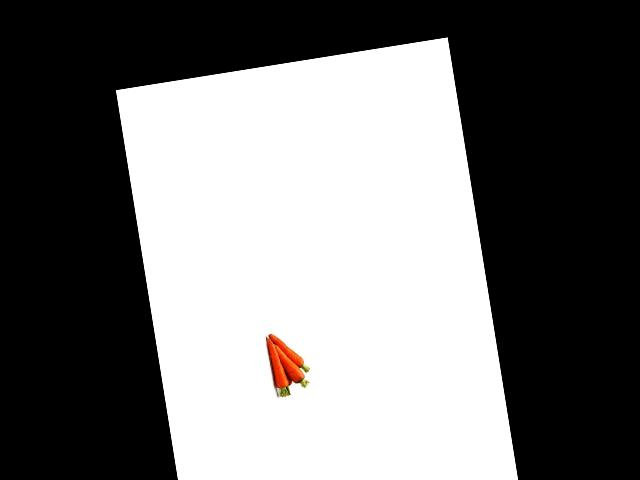carrot: (260, 332, 289, 395)
